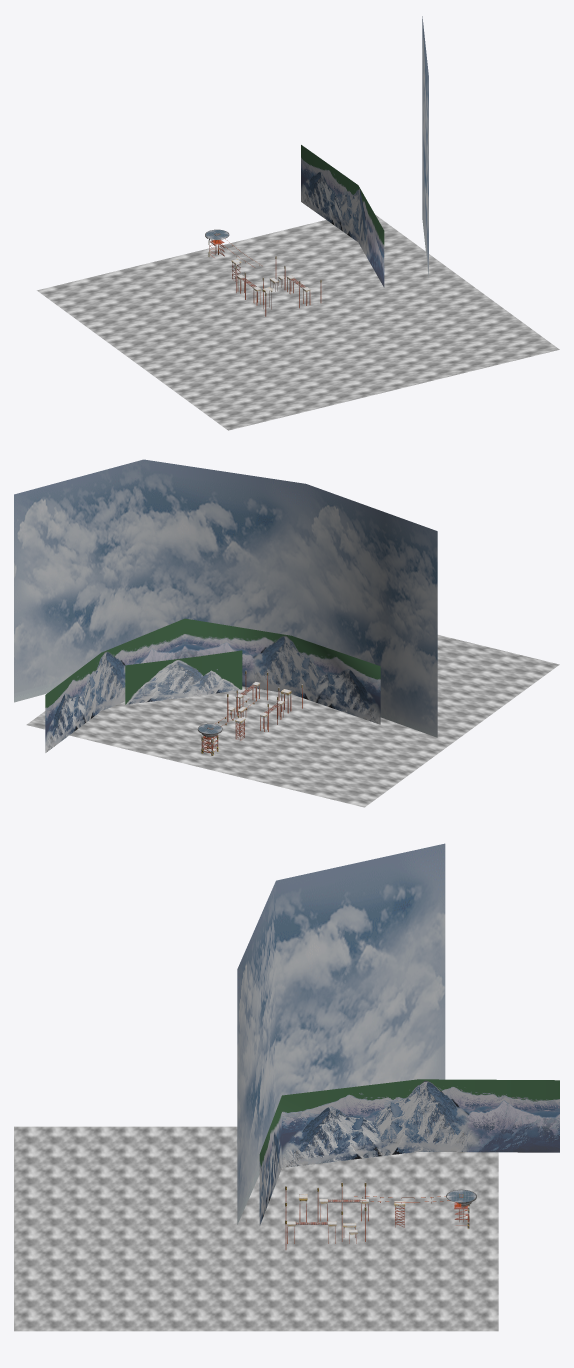
Rendered from EnvironmentE.glb.
The picture shows the model from 3 angles, top to bottom: view 1: azimuth 30°, elevation 25°; view 2: azimuth 150°, elevation 25°; view 3: azimuth 270°, elevation 25°; orthographic projection. The views are drawn at different scales.
Visible parts, largest first — view 1: EnvironmentE_Original; view 2: EnvironmentE_Original, BigPlace shadow; view 3: EnvironmentE_Original.
Part boxes in pixels (left/top/right/bottom): EnvironmentE_Original: left=37, top=16, right=559, bottom=430; EnvironmentE_Original: left=14, top=459, right=559, bottom=807; BigPlace shadow: left=197, top=723, right=222, bottom=755; EnvironmentE_Original: left=14, top=843, right=559, bottom=1331.
Size of the model in its own units: 253 by 130 by 232.
2 materials, 2 textured.
